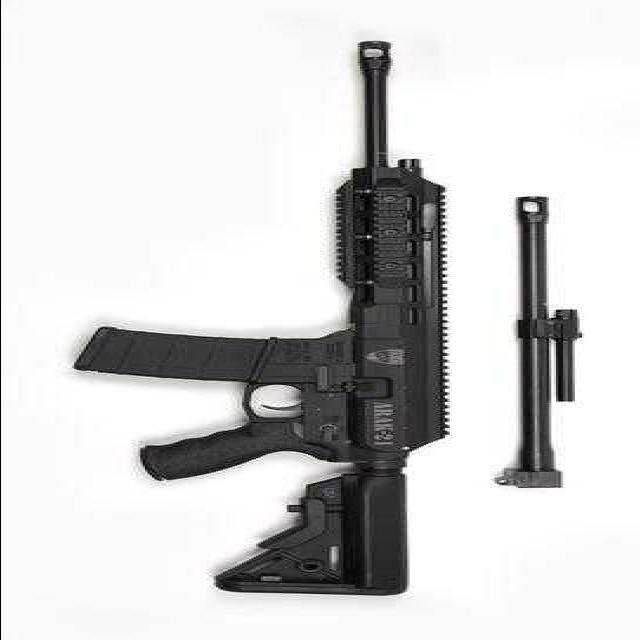heavyweapon: (58, 34, 532, 617)
